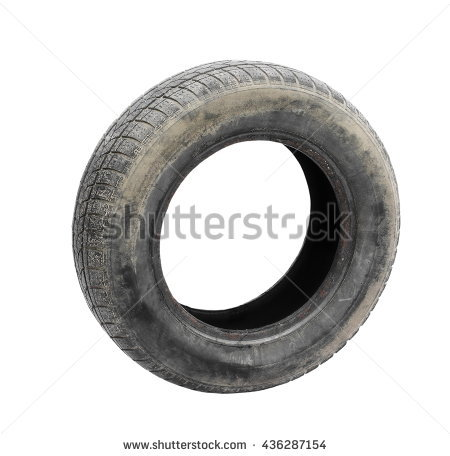tire: (71, 60, 400, 395)
